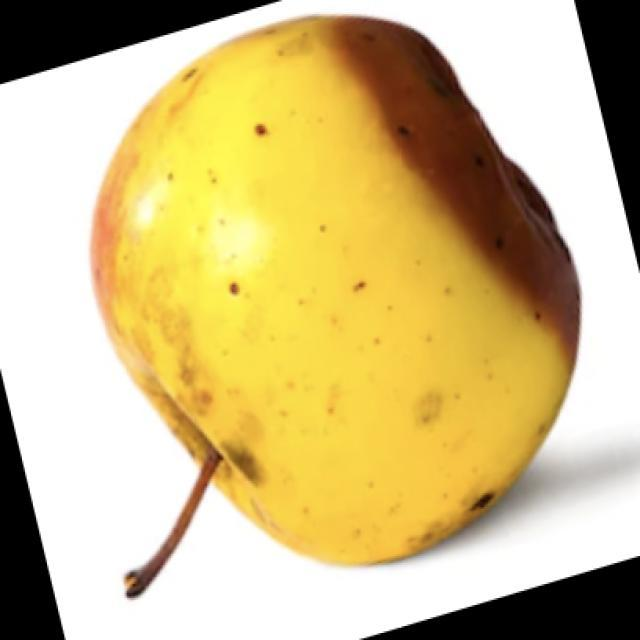Rotten: (72, 17, 573, 560)
